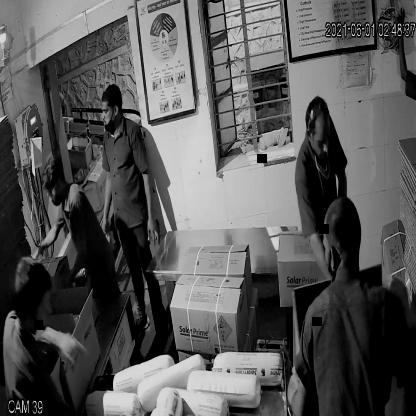no_goggles: (306, 132, 335, 156)
